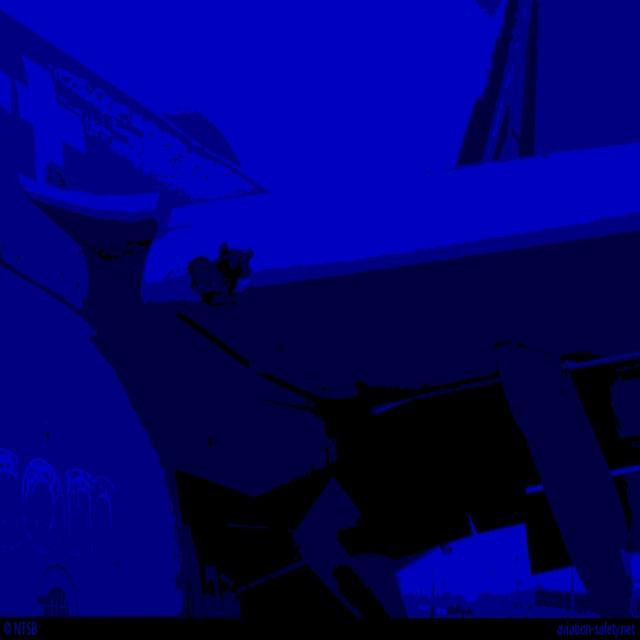crack: (190, 242, 260, 309)
